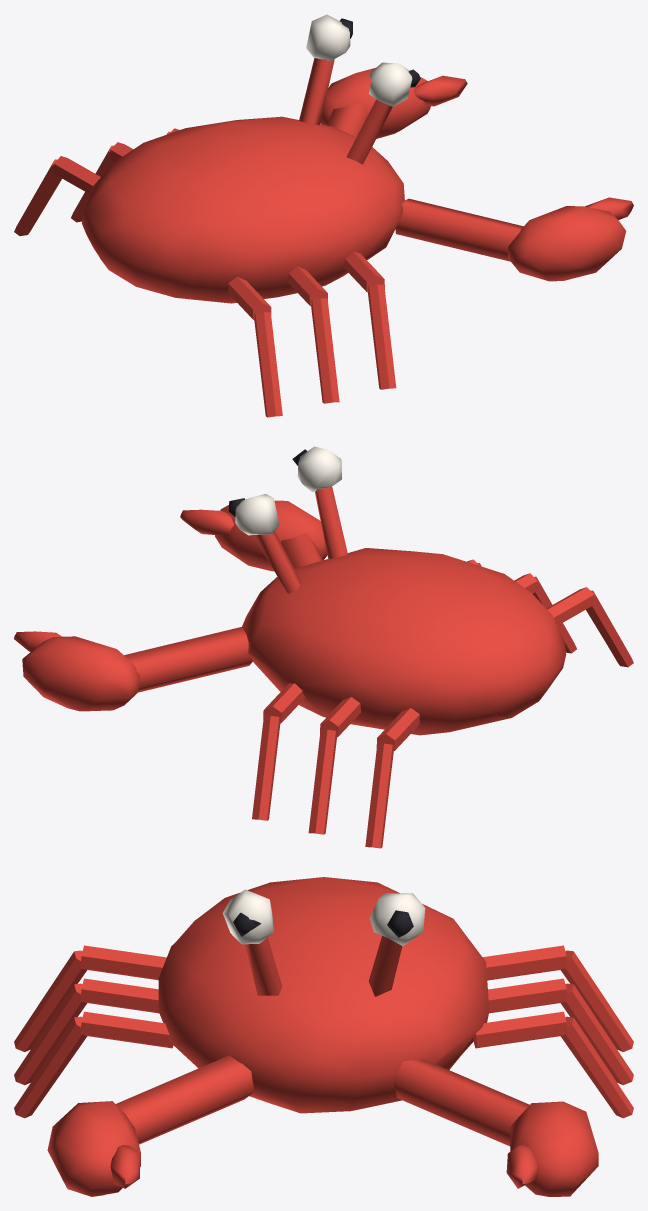
Rendered from crab.glb.
The picture shows the model from 3 angles, top to bottom: view 1: azimuth 30°, elevation 25°; view 2: azimuth 150°, elevation 25°; view 3: azimuth 270°, elevation 25°; orthographic projection. The views are drawn at different scales.
Visible parts, largest first — view 1: crab; view 2: crab; view 3: crab.
Part boxes in pixels (box(x1,y1,x2,y2)): crab: box(14, 14, 633, 417); crab: box(14, 446, 633, 848); crab: box(14, 877, 633, 1196).
Size of the model in its own units: 0.519 by 0.2541 by 0.5149.
1 material, 1 textured.
